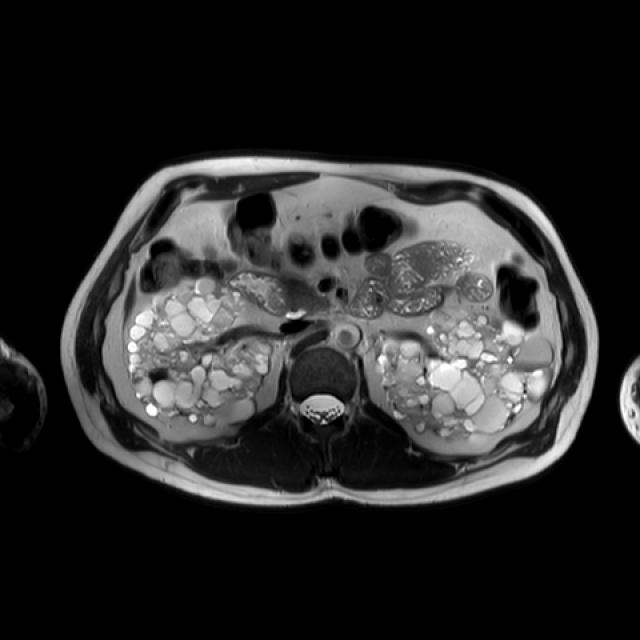sag: (125, 271, 275, 427)
sol: (369, 306, 555, 447)
